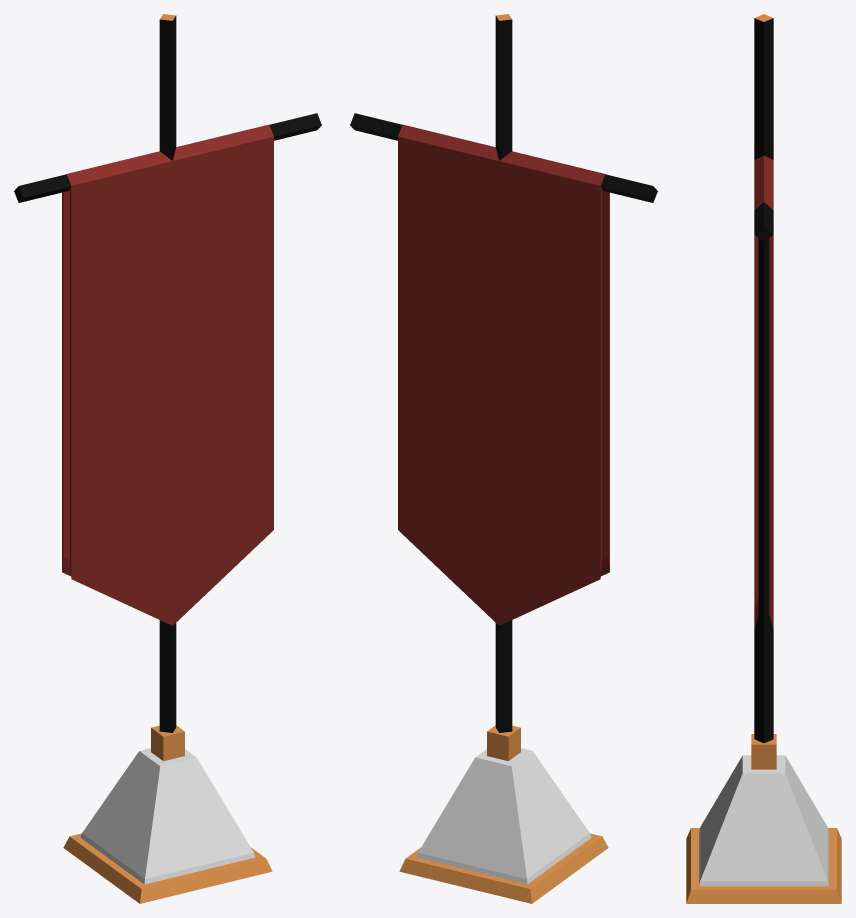
The model's file is prop_Flag.fbx.
3 renders of one model, left to right at view 1: azimuth 30°, elevation 25°; view 2: azimuth 150°, elevation 25°; view 3: azimuth 270°, elevation 25°, orthographic.
Visible parts, largest first — view 1: prop_Flag; view 2: prop_Flag; view 3: prop_Flag.
Part boxes in pixels (x1,y1,x2,y2): prop_Flag: (14,14,321,903); prop_Flag: (350,14,657,903); prop_Flag: (686,14,841,903).
Size of the model in its own units: 204 by 549 by 90.49.
